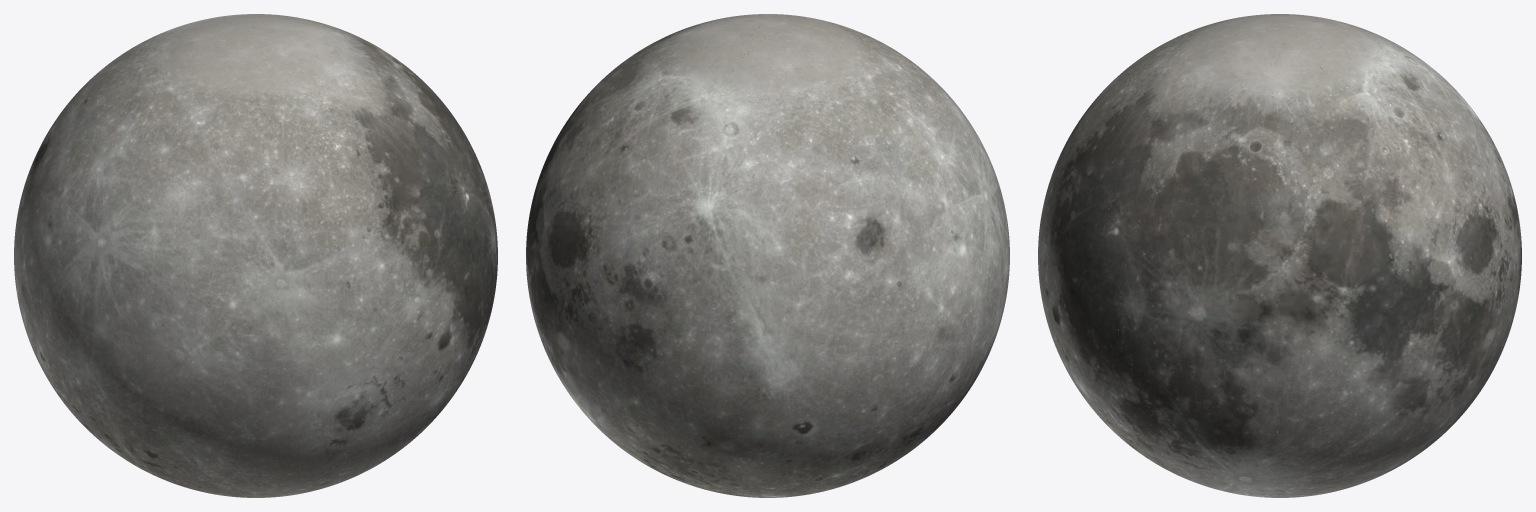
Rendered from moon.glb.
The picture shows the model from 3 angles, left to right: view 1: azimuth 30°, elevation 25°; view 2: azimuth 150°, elevation 25°; view 3: azimuth 270°, elevation 25°; orthographic projection.
Parts seen in each view (by area): view 1: Sphere_0; view 2: Sphere_0; view 3: Sphere_0.
Boxes of the visible parts, x1,y1,x2,y2 form: Sphere_0: (14,14,497,497); Sphere_0: (526,14,1009,497); Sphere_0: (1038,14,1521,497).
Bounding box in the file's own units: 1110 × 1110 × 1110.
1 material, 1 textured.
